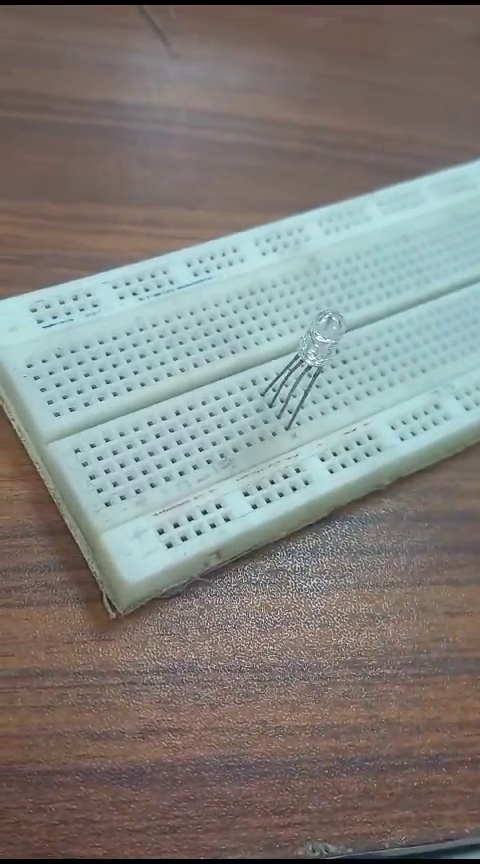LED: (259, 304, 342, 432)
